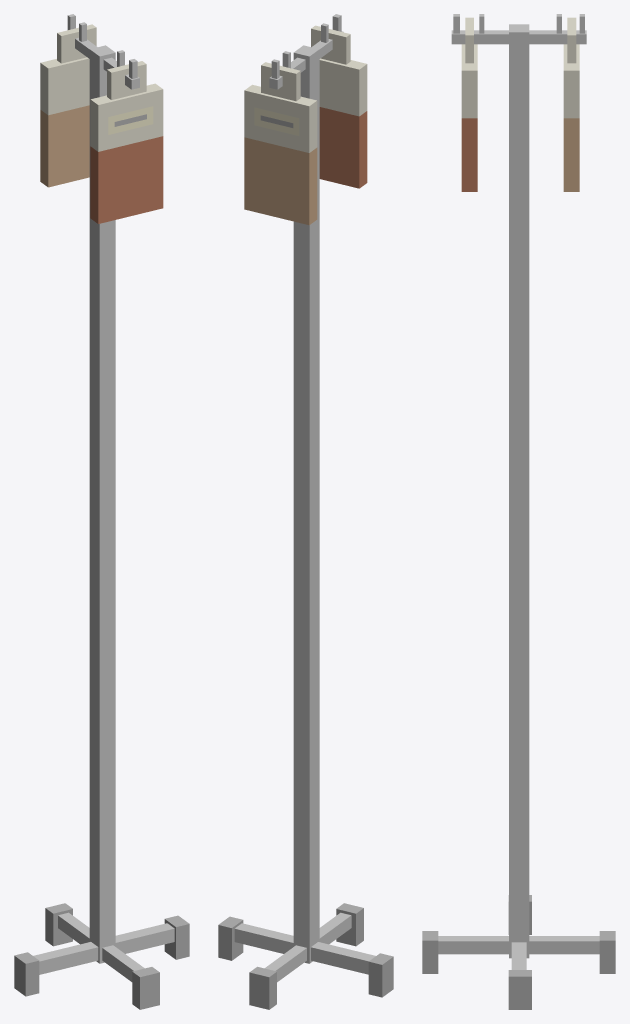
Rendered from dropper.fbx.
3 views of the same model, side by side, from view 1: azimuth 30°, elevation 25°; view 2: azimuth 150°, elevation 25°; view 3: azimuth 270°, elevation 25° (orthographic). The views are drawn at different scales.
Parts seen in each view (by area): view 1: Cube_3; view 2: Cube_3; view 3: Cube_3.
Part boxes in pixels (x1,y1,x2,y2): Cube_3: (14,14,189,1009); Cube_3: (218,14,393,1009); Cube_3: (422,14,615,1009).
Size of the model in its own units: 10.3 by 56.08 by 10.3.
